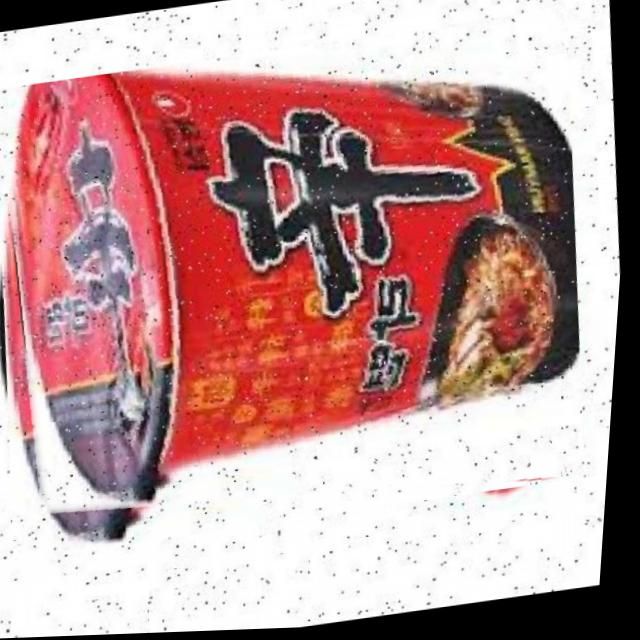Miscellaneous: (0, 11, 615, 561)
